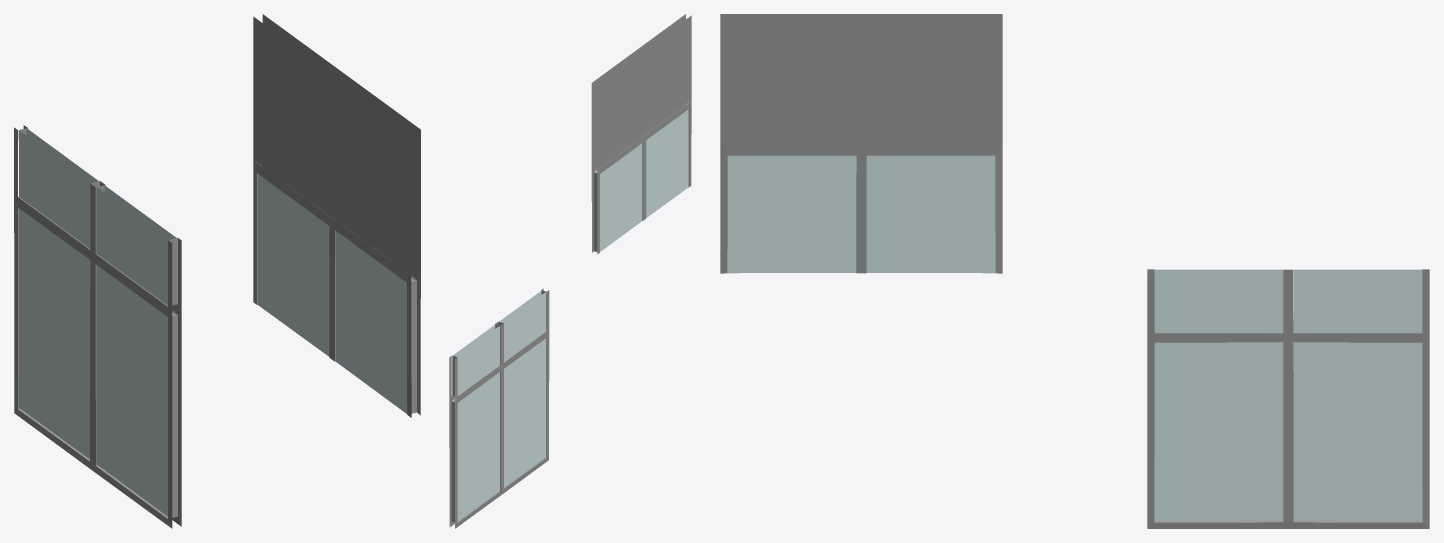
The model's file is NewerOkayWindows.fbx.
The picture shows the model from 3 angles, left to right: view 1: azimuth 30°, elevation 25°; view 2: azimuth 150°, elevation 25°; view 3: azimuth 270°, elevation 25°; orthographic projection. The views are drawn at different scales.
Visible parts, largest first — view 1: polySurface74, polySurface72; view 2: polySurface74, polySurface72; view 3: polySurface72, polySurface74.
Part boxes in pixels (<box>): polySurface74: <box>253,14,420,417</box>; polySurface72: <box>14,125,181,528</box>; polySurface74: <box>591,14,691,254</box>; polySurface72: <box>449,288,549,528</box>; polySurface72: <box>1147,269,1429,528</box>; polySurface74: <box>720,14,1002,273</box>.
Size of the model in its own units: 0.1814 by 9.98 by 12.56.
